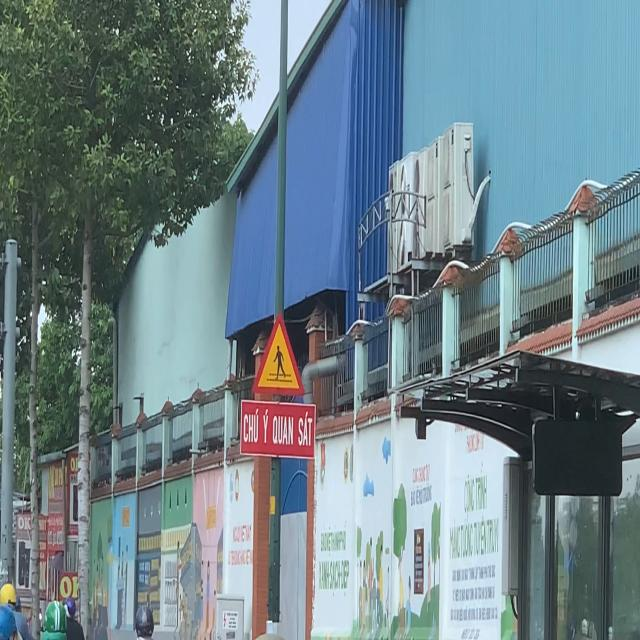Nguoi di bo cat ngang: (250, 311, 306, 396)
